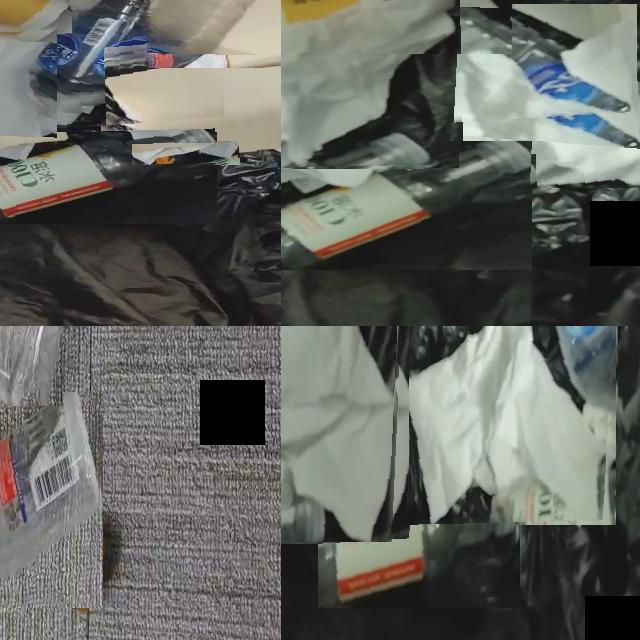bottle: (281, 141, 531, 270), (318, 469, 518, 608), (386, 4, 632, 116), (31, 0, 211, 130), (0, 132, 216, 221), (0, 392, 101, 581), (383, 326, 476, 459)
carton: (102, 61, 281, 161), (148, 0, 281, 67)
dixie_cup: (281, 0, 439, 45), (0, 0, 70, 33)
paper: (409, 326, 609, 525), (360, 57, 640, 188), (281, 0, 458, 168), (281, 326, 401, 543), (0, 23, 57, 140), (424, 0, 512, 54), (133, 145, 239, 165)
